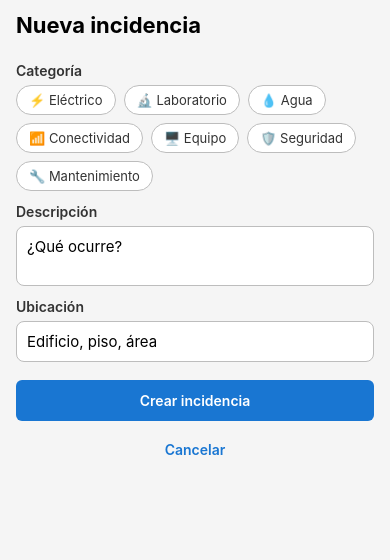
CrearIncidencia form › shows field errors and sends nothing when the form is empty
Click the element with test id "crear-enviar": (195, 400) [16,380,374,421]
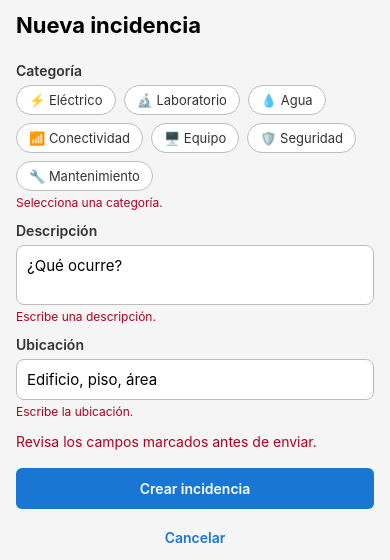
Check: the text "Selecciona una categoría." is shown, box [16,195,163,210]
Check: the text "Escribe una descripción." is shown, box [16,309,156,324]
Check: the text "Escribe la ubicación." is shown, box [16,404,133,419]
